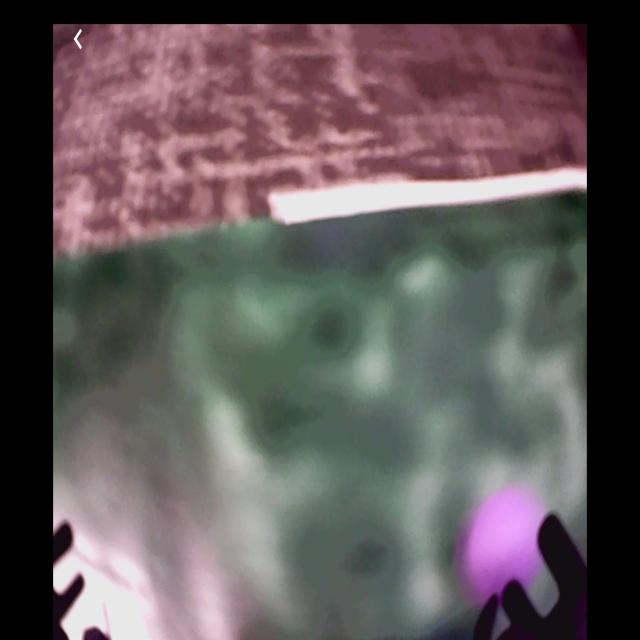ball: (467, 485, 546, 605)
